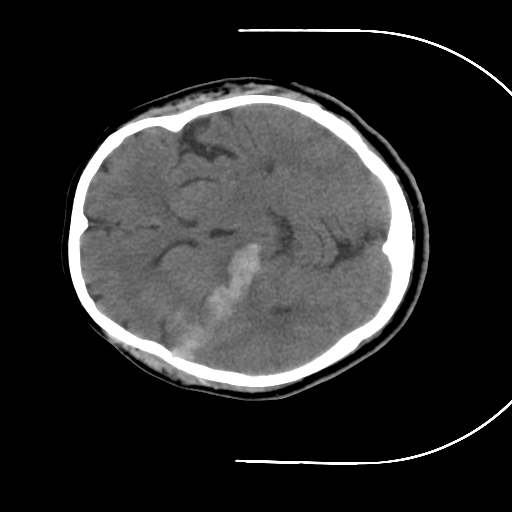a: (151, 230, 267, 368)
